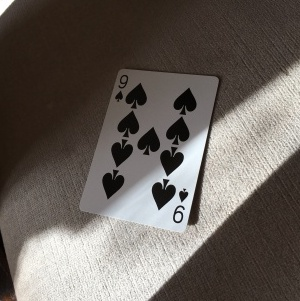card: (80, 68, 219, 233)
